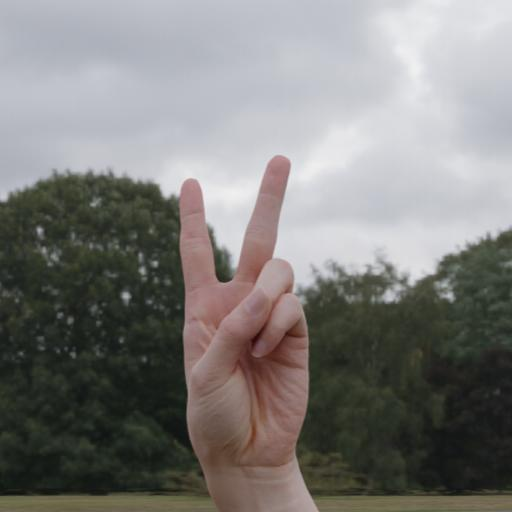V: (146, 92, 352, 511)
